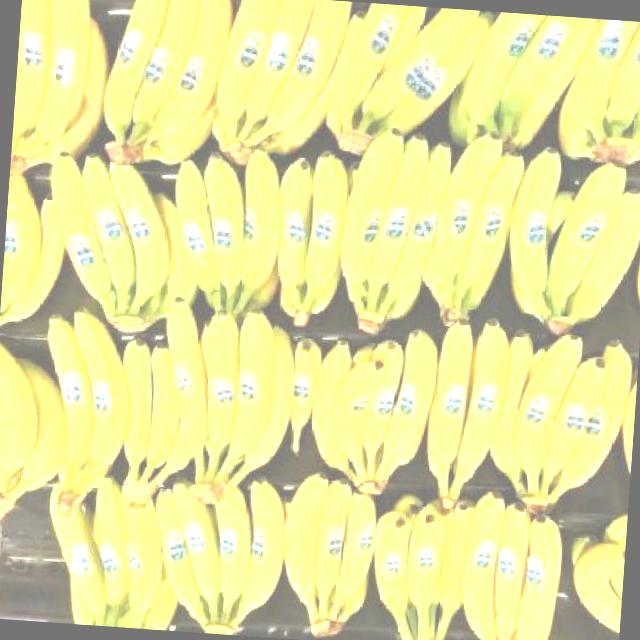Banana: (149, 297, 298, 510), (314, 7, 488, 162), (490, 326, 632, 514), (36, 156, 184, 334), (206, 0, 361, 169), (500, 150, 640, 331), (334, 121, 444, 338), (146, 469, 287, 638), (92, 0, 230, 170), (304, 332, 439, 498), (414, 128, 522, 331), (40, 482, 186, 630), (436, 14, 581, 159), (31, 312, 132, 518), (166, 156, 288, 324), (9, 0, 109, 184), (420, 322, 509, 510), (277, 477, 379, 638), (457, 499, 567, 640), (270, 146, 348, 330), (0, 335, 73, 529), (365, 506, 468, 640), (552, 20, 640, 168), (0, 172, 70, 329), (565, 514, 627, 636)
